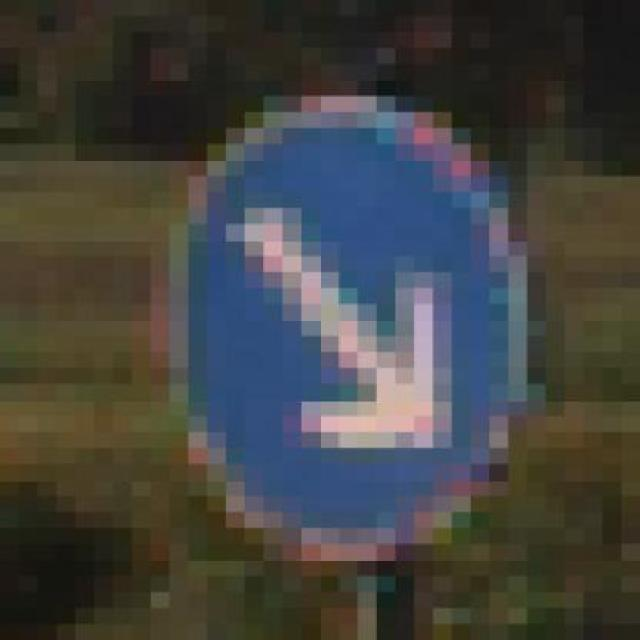Keep-Right: (150, 95, 602, 592)
